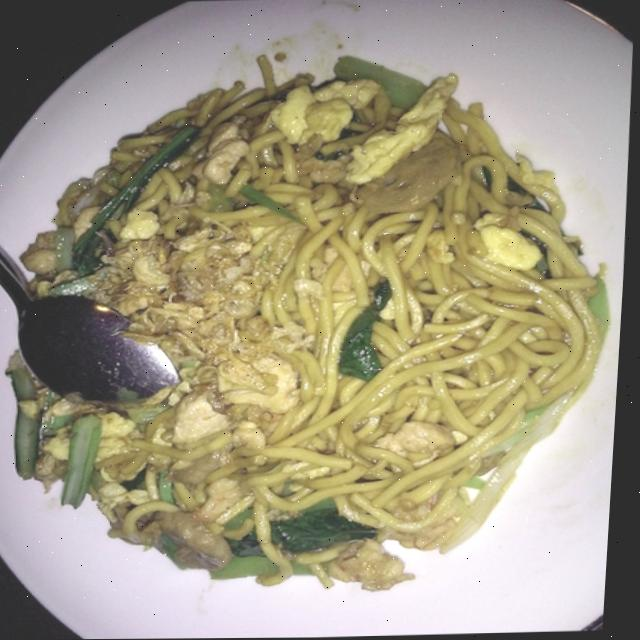面条主食: (0, 4, 636, 638)
